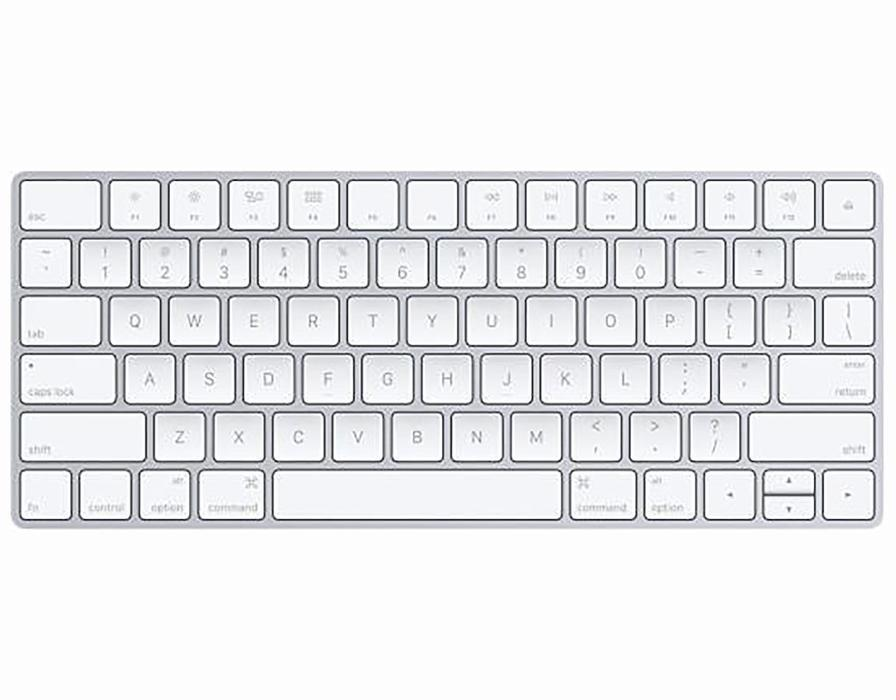keyboard: (14, 172, 885, 528)
